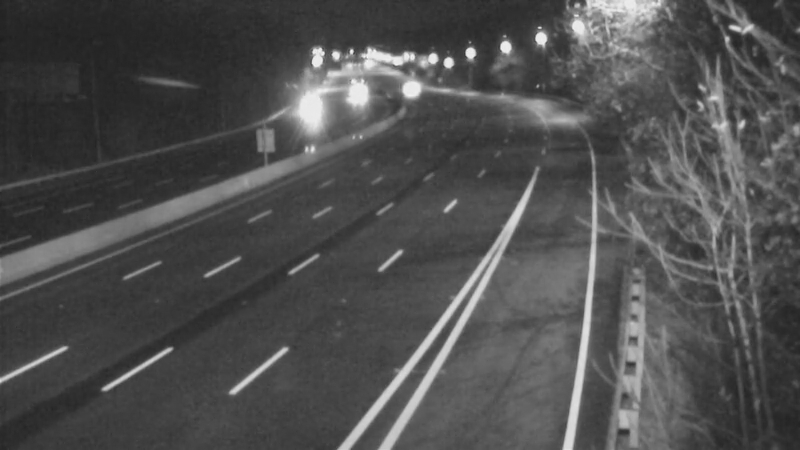vehicle: (385, 63, 435, 113), (286, 80, 336, 130), (331, 71, 381, 121)
